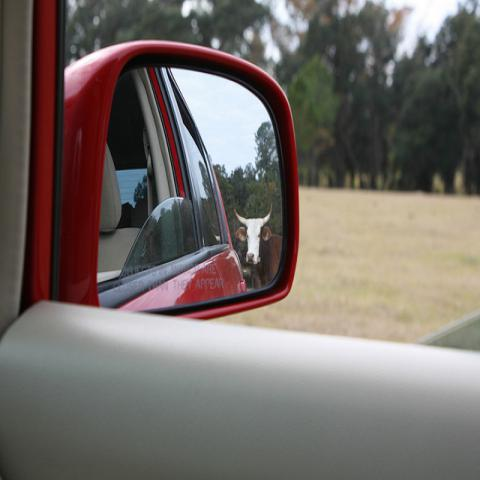car: (1, 1, 479, 471)
